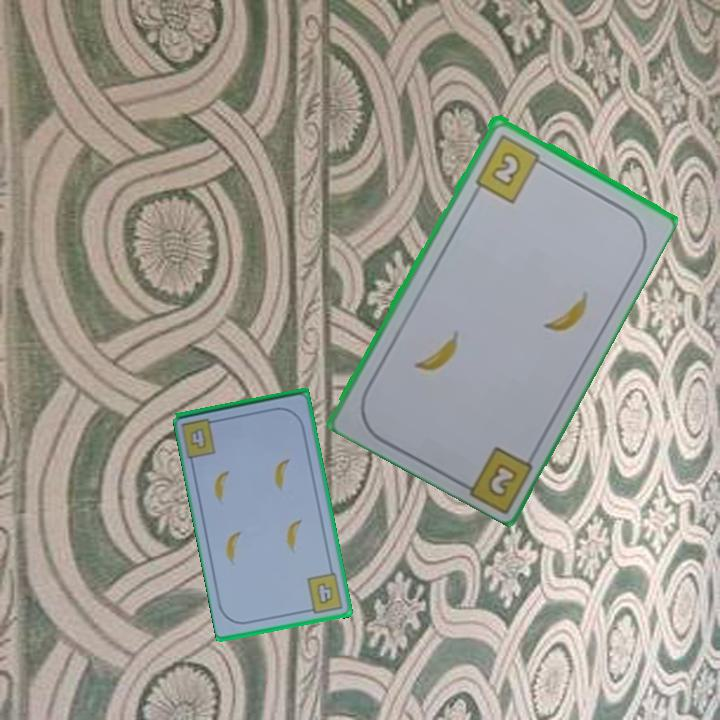2b: (471, 130, 550, 205), (487, 463, 517, 497)
4b: (303, 569, 346, 616), (187, 424, 210, 453)
